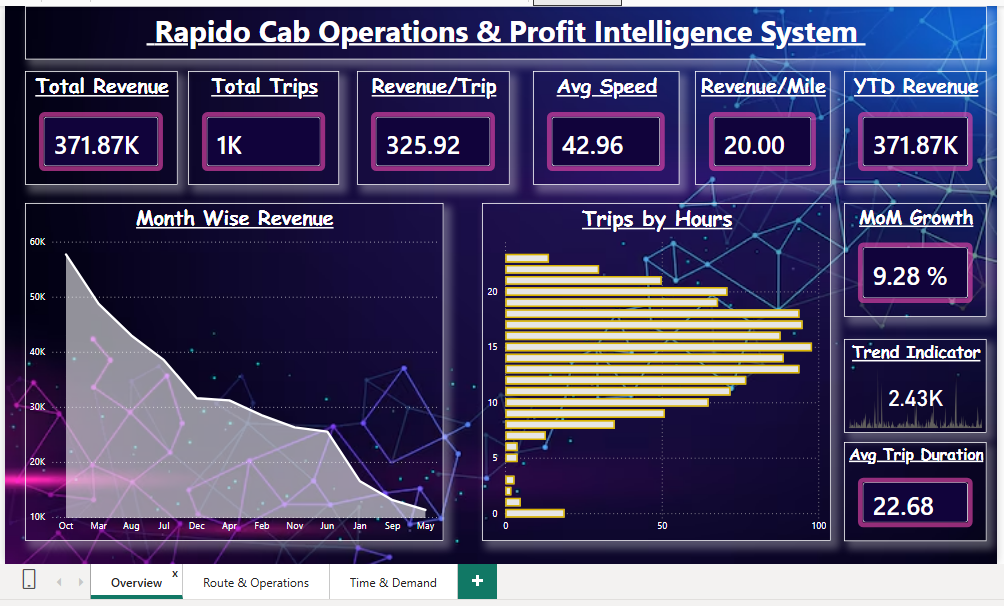

This screenshot's page, from the dashboard's own definition file:
{"tool":"powerbi","page":{"name":"Overview","canvas":[1280,720],"ordinal":0},"visuals":[{"type":"textbox","box":[25.7,0,1241.4,68.6],"z":0},{"type":"cardVisual","title":"Total Revenue","fields":{"Data":["Rapido_Dataset.Total_Revenue"]},"box":[26.2,84,196.8,147.3],"z":1000},{"type":"cardVisual","title":"Total Trips","fields":{"Data":["Rapido_Dataset.Total_Trip"]},"box":[236.7,84,195.4,147.3],"z":2000},{"type":"cardVisual","title":"Revenue/Trip","fields":{"Data":["Rapido_Dataset.Revenue_Per_Trip"]},"box":[454.2,84,196.8,147.3],"z":3000},{"type":"cardVisual","title":"Avg Speed","fields":{"Data":["Rapido_Dataset.Avg_Speed"]},"box":[681.3,84,188.6,147.3],"z":4000},{"type":"cardVisual","title":"Revenue/Mile","fields":{"Data":["Rapido_Dataset.Revenue-per_Mile"]},"box":[890.5,84,174.8,147.3],"z":5000},{"type":"areaChart","title":"Month Wise Revenue","fields":{"Category":["Calender.Month"],"Y":["Rapido_Dataset.Monthly_Revenue"]},"box":[26.2,254.6,539.5,436.3],"z":6000},{"type":"cardVisual","title":"MoM Growth","fields":{"Data":["Rapido_Dataset.MoM_Growth %"]},"box":[1083.2,254.6,184.4,147.3],"z":7000},{"type":"cardVisual","title":"YTD Revenue","fields":{"Data":["Rapido_Dataset.YTD_Revenue"]},"box":[1083.2,84,184.4,147.3],"z":8000},{"type":"barChart","title":"Trips by Hours","fields":{"Y":["Rapido_Dataset.Total_Trip"],"Category":["Rapido_Dataset.Start_Hour"]},"box":[615.2,254.6,450.1,436.3],"z":9000},{"type":"kpi","title":"Trend Indicator","fields":{"TrendLine":["Calender.Date"],"Indicator":["Rapido_Dataset.Total_Revenue"]},"box":[1083.2,429.4,184.4,121.1],"z":10000},{"type":"cardVisual","title":"Avg Trip Duration","fields":{"Data":["Rapido_Dataset.avu trip duration"]},"box":[1083.2,562.9,184.4,128],"z":11000}]}

Visuals, with their boxes on the page's 1280x720 design canvas (x1, y1, x2, y2). These are canvas units, not pixel positions in the 1004x606 screenshot, which may show the page scaled, cropped or inside an application window:
textbox: <box>26,0,1267,69</box>
"Total Revenue" cardVisual: <box>26,84,223,231</box>
"Total Trips" cardVisual: <box>237,84,432,231</box>
"Revenue/Trip" cardVisual: <box>454,84,651,231</box>
"Avg Speed" cardVisual: <box>681,84,870,231</box>
"Revenue/Mile" cardVisual: <box>890,84,1065,231</box>
"Month Wise Revenue" areaChart: <box>26,255,566,691</box>
"MoM Growth" cardVisual: <box>1083,255,1268,402</box>
"YTD Revenue" cardVisual: <box>1083,84,1268,231</box>
"Trips by Hours" barChart: <box>615,255,1065,691</box>
"Trend Indicator" kpi: <box>1083,429,1268,550</box>
"Avg Trip Duration" cardVisual: <box>1083,563,1268,691</box>
